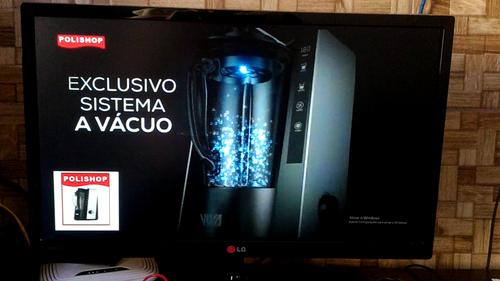Polishop #1: (52, 169, 119, 230)
